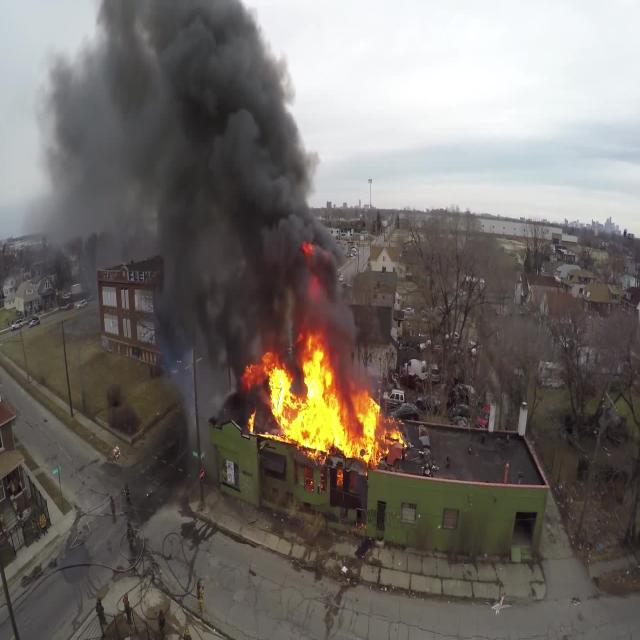Fire: (218, 246, 402, 469)
Smoke: (24, 0, 396, 450)
